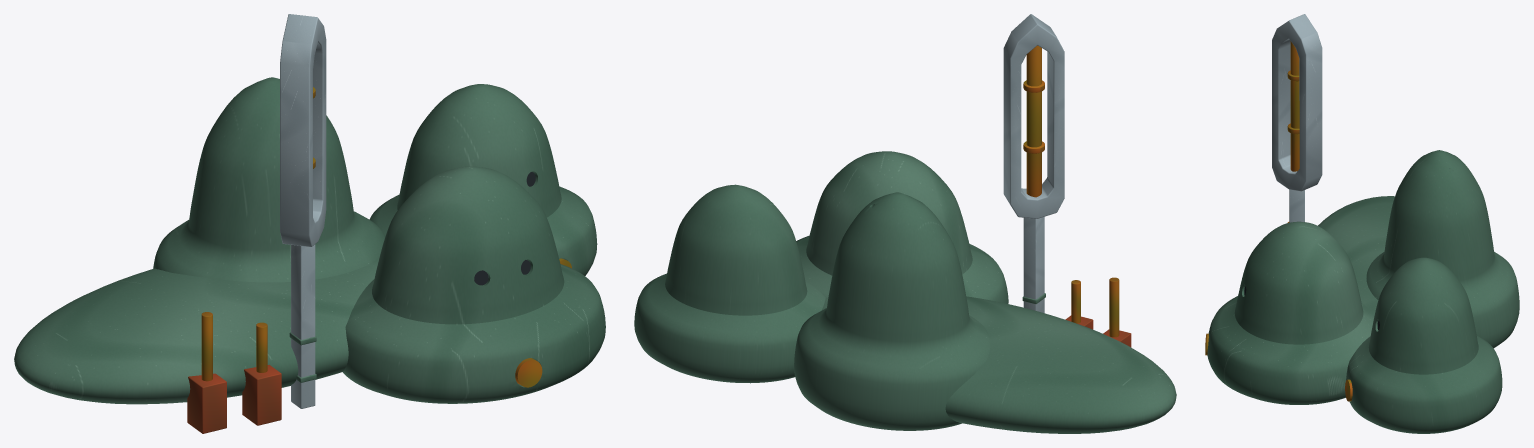
The picture shows the model from 3 angles, left to right: view 1: azimuth 30°, elevation 25°; view 2: azimuth 150°, elevation 25°; view 3: azimuth 270°, elevation 25°; orthographic projection. The views are drawn at different scales.
Visible parts, largest first — view 1: Refining Forge rounded front shell chamber, Refining Forge low rounded left wing, Refining Forge rounded rear shell chamber, Refining Forge rounded right shell chamber, Refining Forge open pale capsule frame, Refining Forge straight pale stem, Refining Forge red copper pedestal 0, Refining Forge red copper pedestal 1, Refining Forge unequal brass pin 0, Refining Forge front lower brass fitting, Refining Forge unequal brass pin 1; view 2: Refining Forge rounded rear shell chamber, Refining Forge rounded right shell chamber, Refining Forge low rounded left wing, Refining Forge rounded front shell chamber, Refining Forge open pale capsule frame, Refining Forge continuous brass frame core, Refining Forge straight pale stem, Refining Forge unequal brass pin 0; view 3: Refining Forge rounded front shell chamber, Refining Forge rounded right shell chamber, Refining Forge rounded rear shell chamber, Refining Forge open pale capsule frame, Refining Forge low rounded left wing, Refining Forge continuous brass frame core, Refining Forge straight pale stem.
Boxes of the visible parts, left/top/right/bottom form: Refining Forge rounded front shell chamber: left=342, top=166, right=605, bottom=403; Refining Forge low rounded left wing: left=14, top=257, right=379, bottom=404; Refining Forge rounded rear shell chamber: left=153, top=77, right=384, bottom=282; Refining Forge rounded right shell chamber: left=369, top=84, right=597, bottom=275; Refining Forge open pale capsule frame: left=280, top=14, right=326, bottom=246; Refining Forge straight pale stem: left=291, top=244, right=315, bottom=408; Refining Forge red copper pedestal 0: left=187, top=373, right=226, bottom=433; Refining Forge red copper pedestal 1: left=242, top=364, right=281, bottom=425; Refining Forge unequal brass pin 0: left=201, top=312, right=212, bottom=381; Refining Forge front lower brass fitting: left=515, top=358, right=542, bottom=387; Refining Forge unequal brass pin 1: left=256, top=322, right=267, bottom=372; Refining Forge rounded rear shell chamber: left=794, top=192, right=990, bottom=430; Refining Forge rounded right shell chamber: left=634, top=184, right=825, bottom=383; Refining Forge low rounded left wing: left=821, top=296, right=1176, bottom=433; Refining Forge rounded front shell chamber: left=796, top=151, right=1008, bottom=303; Refining Forge open pale capsule frame: left=1003, top=14, right=1064, bottom=218; Refining Forge continuous brass frame core: left=1026, top=45, right=1041, bottom=197; Refining Forge straight pale stem: left=1023, top=217, right=1044, bottom=313; Refining Forge unequal brass pin 0: left=1109, top=277, right=1119, bottom=337; Refining Forge rounded front shell chamber: left=1207, top=221, right=1374, bottom=404; Refining Forge rounded right shell chamber: left=1346, top=257, right=1502, bottom=433; Refining Forge rounded rear shell chamber: left=1366, top=150, right=1519, bottom=348; Refining Forge open pale capsule frame: left=1272, top=14, right=1322, bottom=191; Refining Forge low rounded left wing: left=1318, top=196, right=1394, bottom=316; Refining Forge continuous brass frame core: left=1290, top=41, right=1299, bottom=171; Refining Forge straight pale stem: left=1289, top=189, right=1304, bottom=222.
Size of the model in its own units: 2.6 by 1.65 by 1.61.
5 materials, 4 textured.
